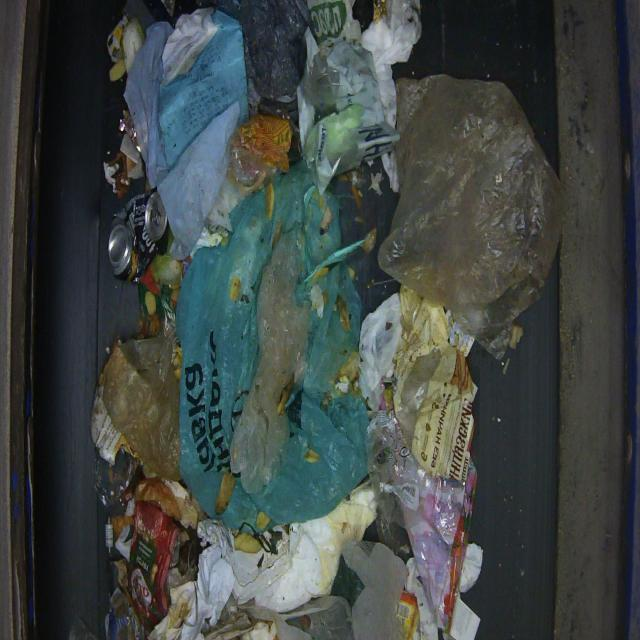plastic-waste: (89, 1, 560, 638)
